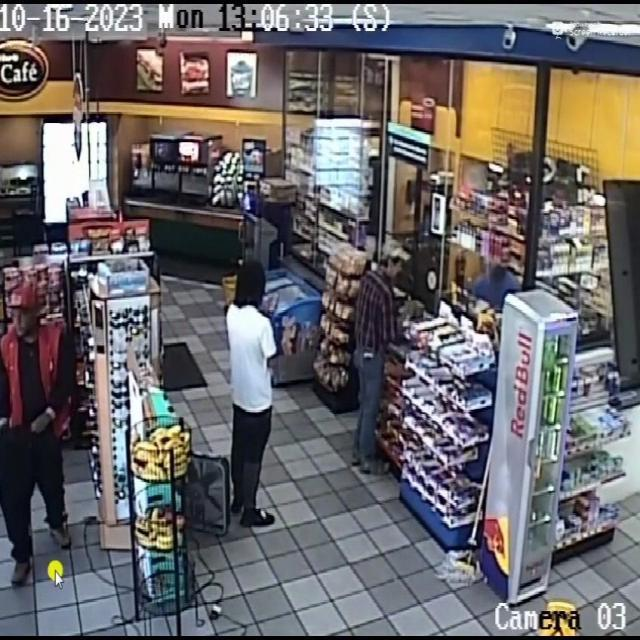normal: (2, 266, 82, 570), (219, 265, 282, 528), (352, 233, 404, 484)
